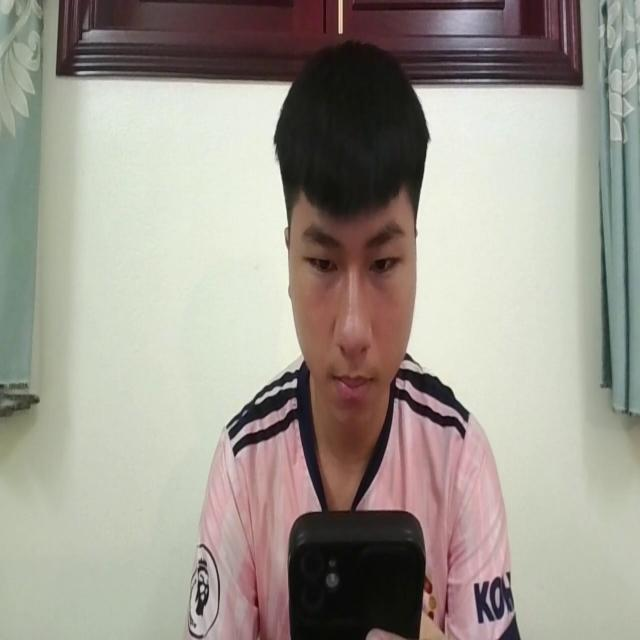phone: (286, 502, 427, 640)
student: (181, 34, 516, 640)
